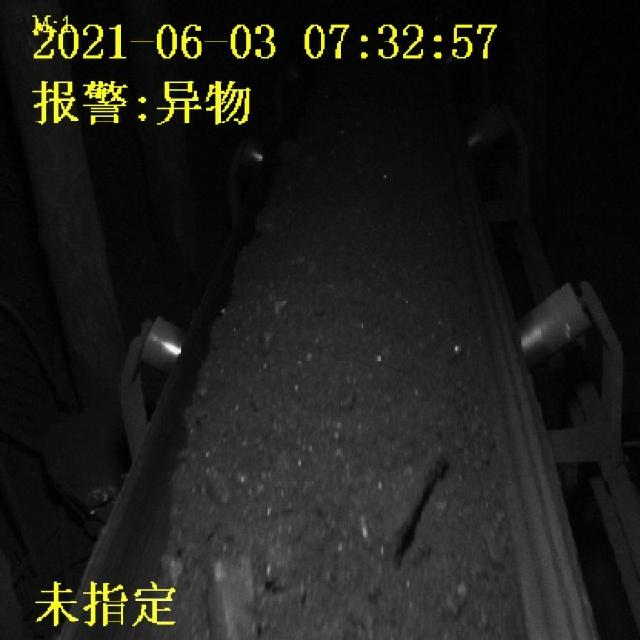large_sized_coal: (274, 426, 443, 562), (203, 545, 262, 637)
